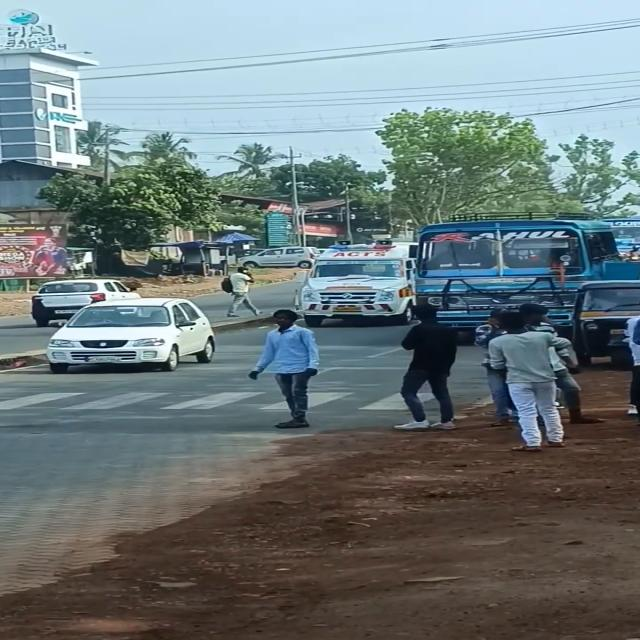ambulance: (292, 237, 411, 323)
